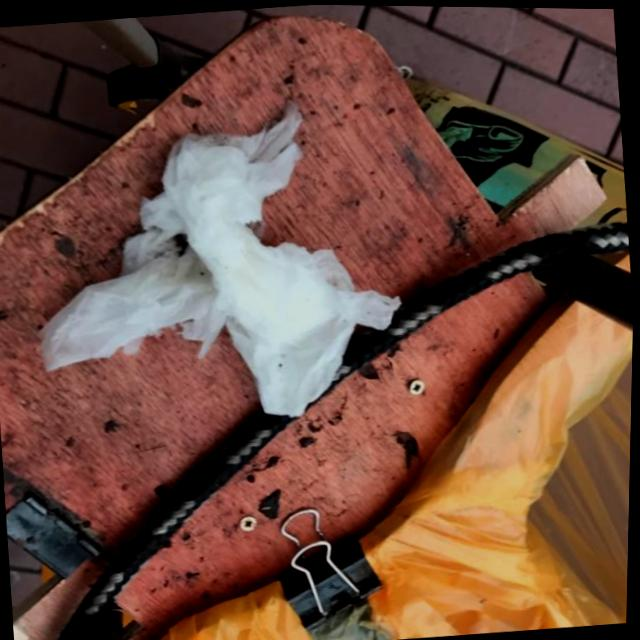Paper: (15, 84, 418, 444)
